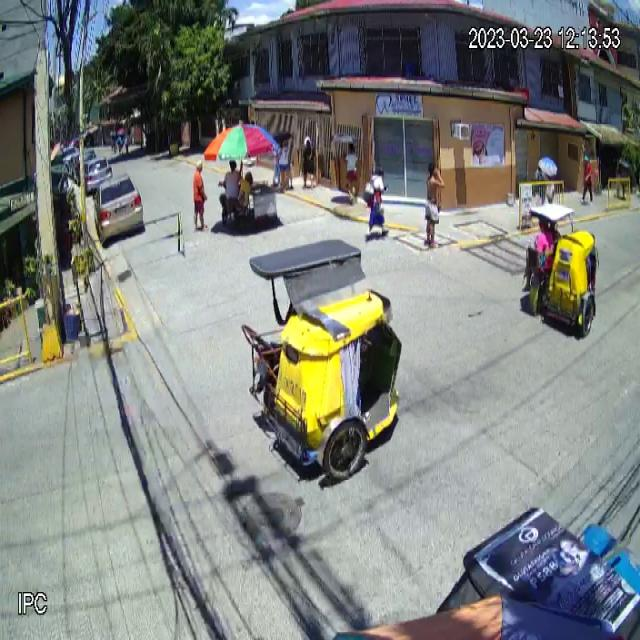Car: (92, 173, 144, 245)
Tricycle: (241, 239, 404, 481), (521, 204, 600, 340)
